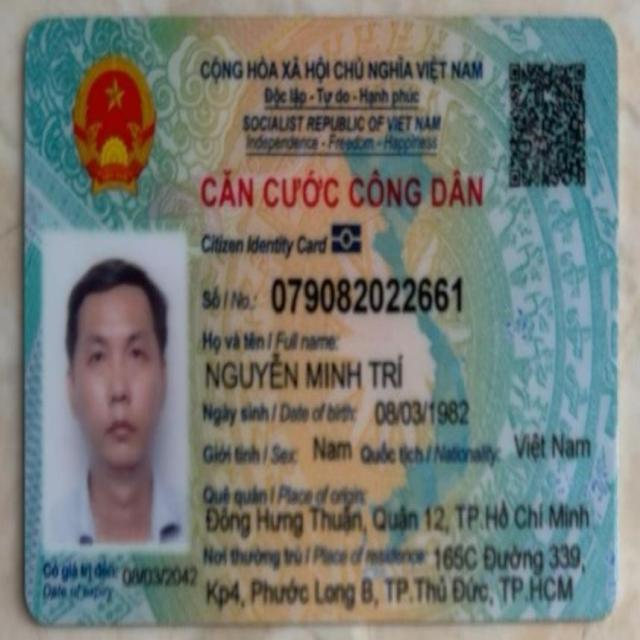current_place: (203, 573, 573, 612), (432, 536, 591, 578)
dob: (369, 392, 472, 426)
expire_date: (120, 560, 203, 597)
gender: (312, 429, 354, 466)
id: (268, 274, 466, 319)
name: (205, 349, 407, 395)
nationality: (510, 429, 596, 462)
origin_place: (202, 498, 593, 540)
